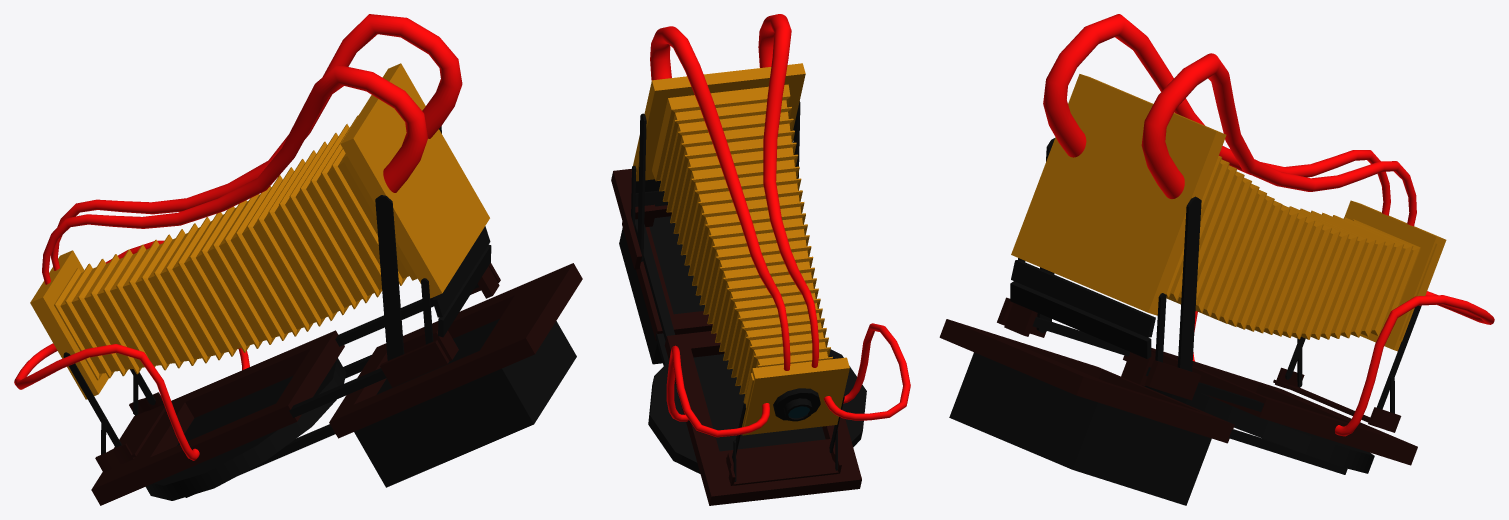
Rendered from SM_camera3.FBX.
3 renders of one model, left to right at view 1: azimuth 30°, elevation 25°; view 2: azimuth 150°, elevation 25°; view 3: azimuth 270°, elevation 25°, orthographic. The views are drawn at different scales.
Visible parts, largest first — view 1: Group002, Box258; view 2: Group002, Box258; view 3: Group002, Box258.
Part boxes in pixels (x1,y1,x2,y2): Group002: (14,14,582,505); Box258: (30,63,489,399); Group002: (611,14,910,505); Box258: (633,63,849,435); Group002: (939,14,1494,505); Box258: (1011,74,1446,351).
Size of the model in its own units: 78.26 by 74.55 by 78.26.
